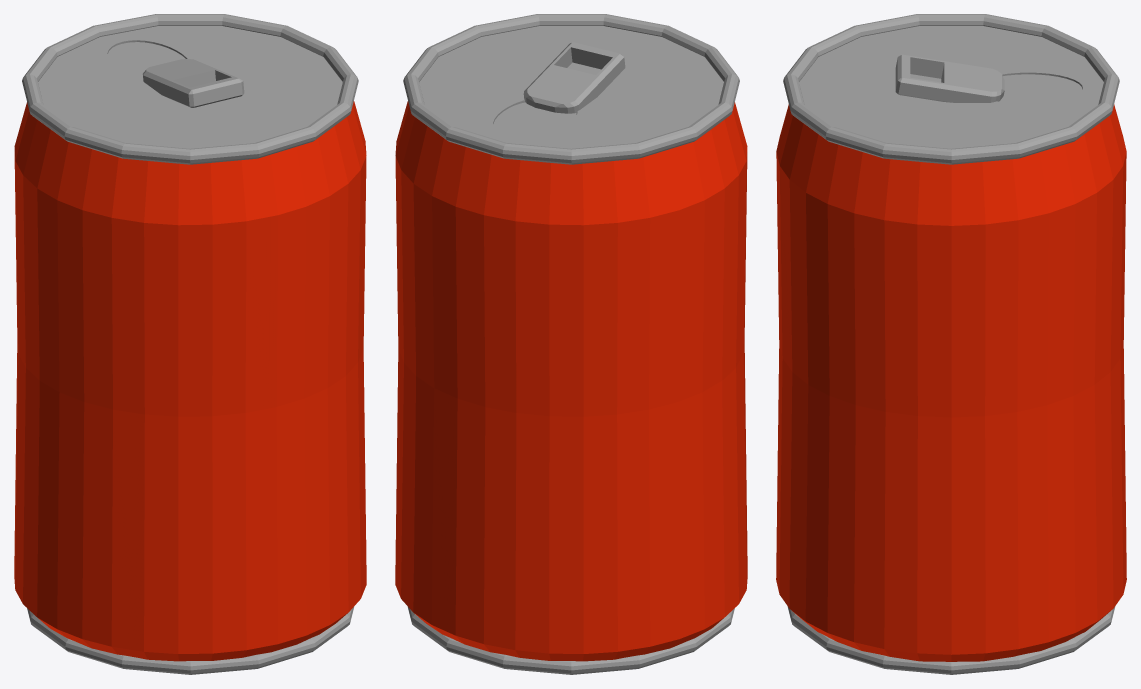
The model's file is Soda Can.fbx.
3 renders of one model, left to right at view 1: azimuth 30°, elevation 25°; view 2: azimuth 150°, elevation 25°; view 3: azimuth 270°, elevation 25°, orthographic.
Parts seen in each view (by area): view 1: Can, Tab, ClosingPlate; view 2: Can, Tab, ClosingPlate; view 3: Can, Tab, ClosingPlate.
Boxes of the visible parts, bbox=[...] form: Can: bbox=[14, 14, 366, 674]; Tab: bbox=[142, 59, 244, 107]; ClosingPlate: bbox=[107, 42, 185, 80]; Can: bbox=[395, 14, 747, 674]; Tab: bbox=[523, 42, 625, 114]; ClosingPlate: bbox=[493, 102, 576, 139]; Can: bbox=[776, 14, 1126, 674]; Tab: bbox=[895, 54, 1004, 102]; ClosingPlate: bbox=[999, 74, 1082, 104].
Bounding box in the file's own units: 202 × 340 × 200.
